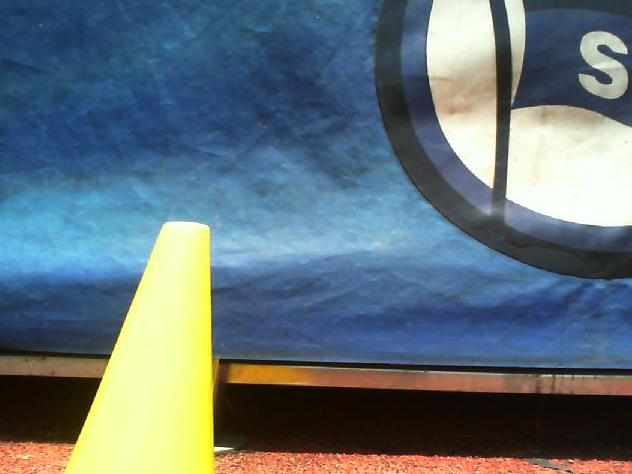0 cone: (62, 220, 215, 474)
